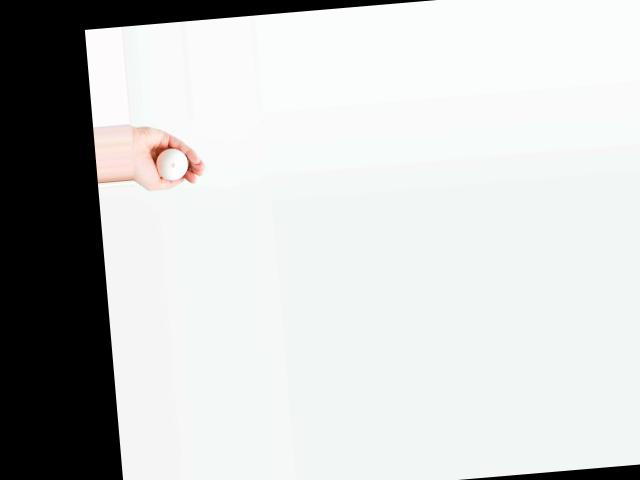egg: (155, 147, 189, 180)
